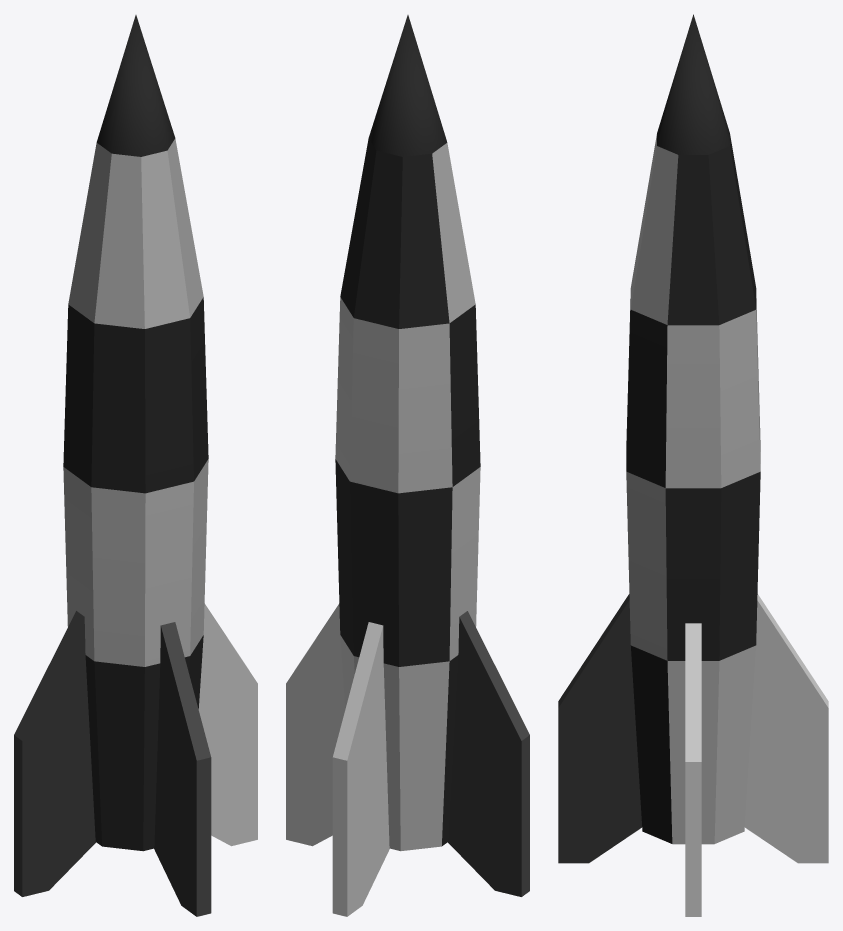
Rendered from SM_Veh_Missle_01.fbx.
3 views of the same model, side by side, from view 1: azimuth 30°, elevation 25°; view 2: azimuth 150°, elevation 25°; view 3: azimuth 270°, elevation 25° (orthographic).
Visible parts, largest first — view 1: SM_Veh_Missle_01; view 2: SM_Veh_Missle_01; view 3: SM_Veh_Missle_01.
Part boxes in pixels (x1,y1,x2,y2): SM_Veh_Missle_01: (14,15,257,916); SM_Veh_Missle_01: (286,15,529,916); SM_Veh_Missle_01: (558,14,828,916).
Bounding box in the file's own units: 2.33 × 8.06 × 2.33.
